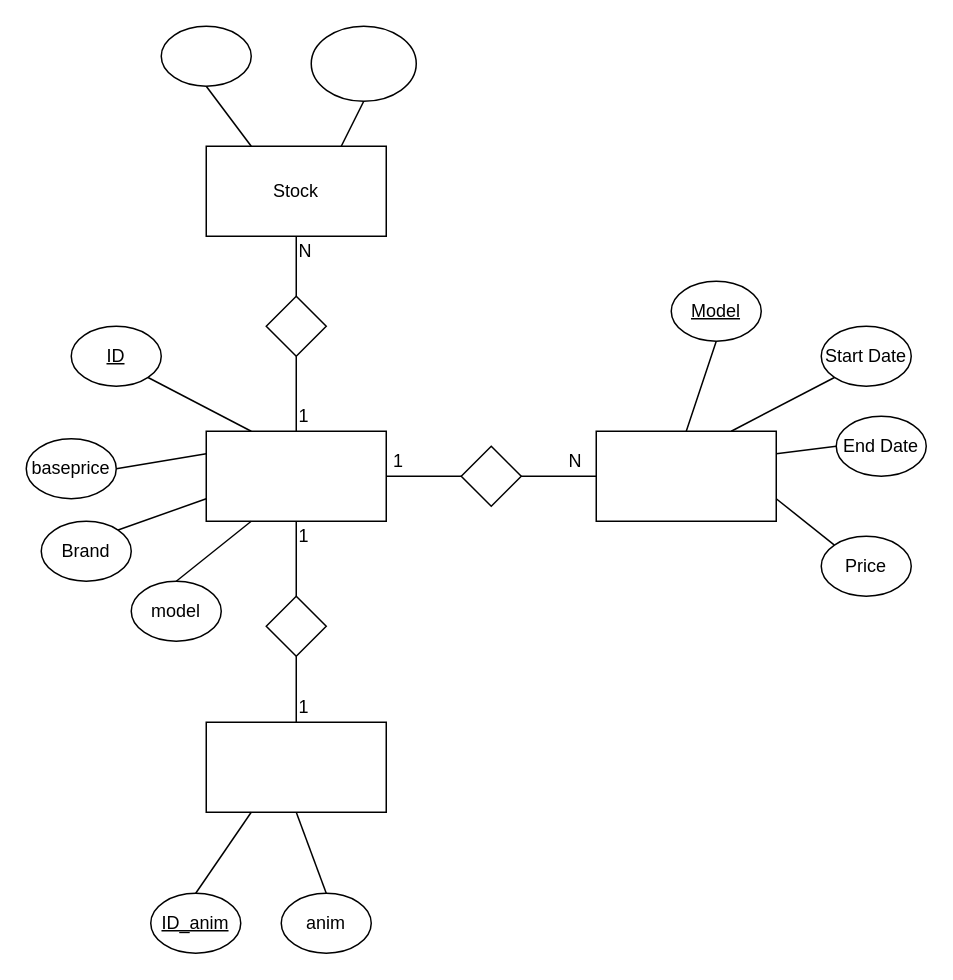
The diagram is 953 pixels wide and 980 high, and some of its shapes have lost their labels. The box of each missing label's shape, as (x1, y1, x2, y2) in pixels:
Animations: (205, 721, 386, 812)
Product: (205, 430, 386, 521)
Product_ID: (310, 25, 416, 101)
Promotions: (595, 430, 776, 521)
Quantity: (160, 25, 251, 86)
